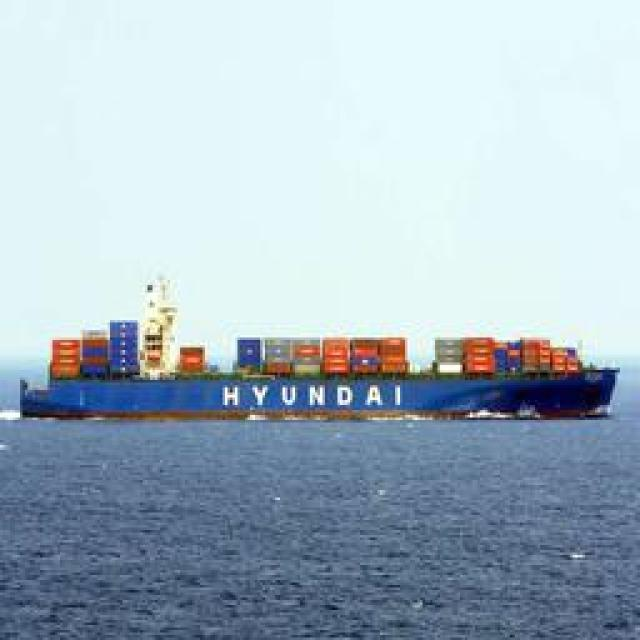ship2: (15, 279, 619, 423)
